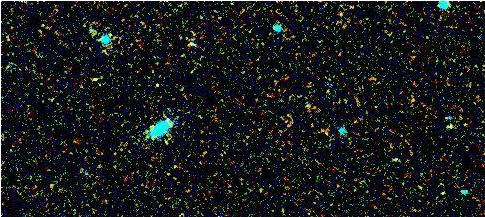star: (82, 63, 112, 93)
